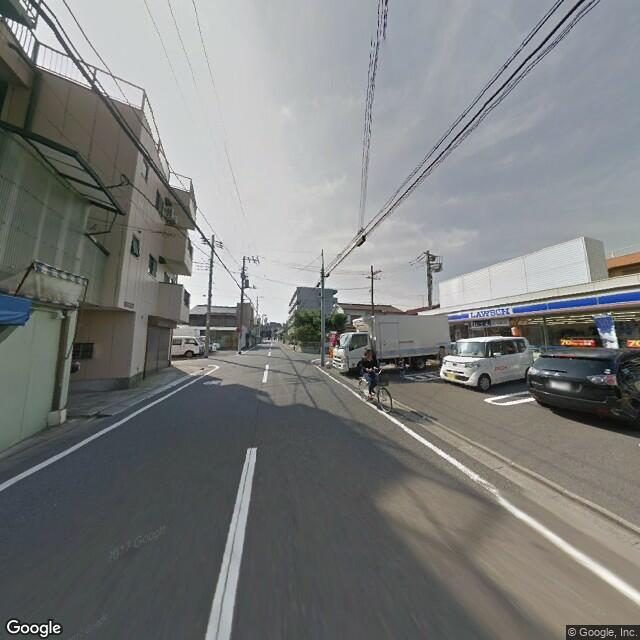lawson: (447, 280, 638, 327)
